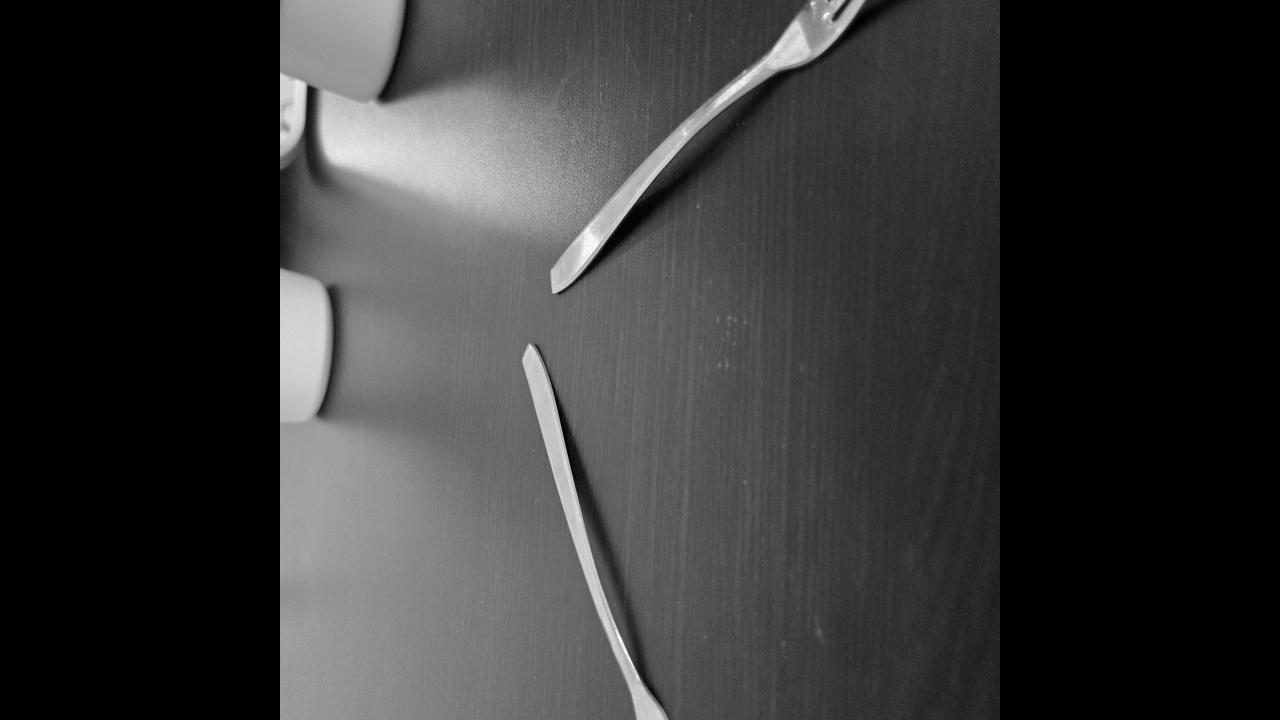fork: (552, 0, 916, 293), (519, 344, 689, 720)
